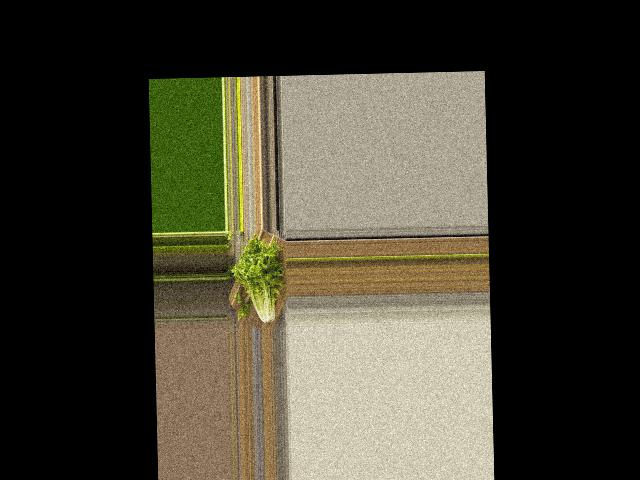lettuce: (231, 237, 285, 328)
